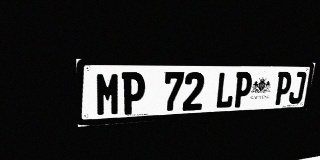2: (182, 72, 205, 111)
7: (161, 72, 185, 112)
J: (288, 72, 307, 104)
L: (215, 72, 236, 109)
M: (95, 72, 121, 117)
P: (121, 72, 146, 115), (232, 72, 253, 108), (273, 72, 293, 105)
